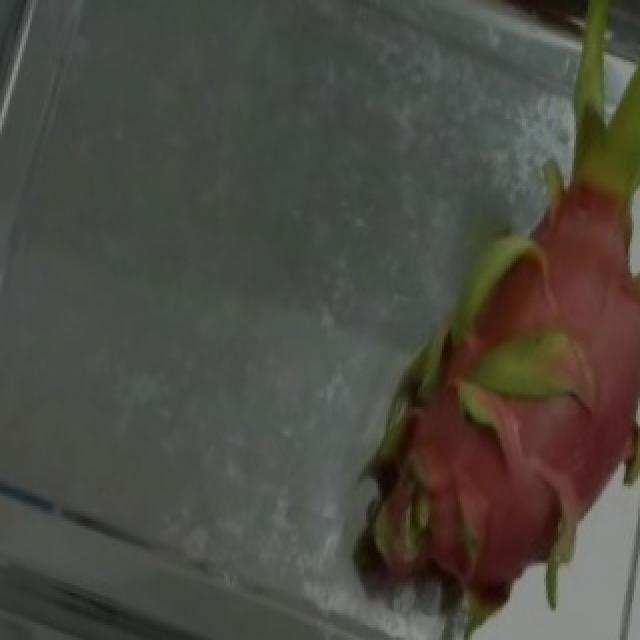fruit: (262, 208, 640, 635), (374, 2, 640, 402)
